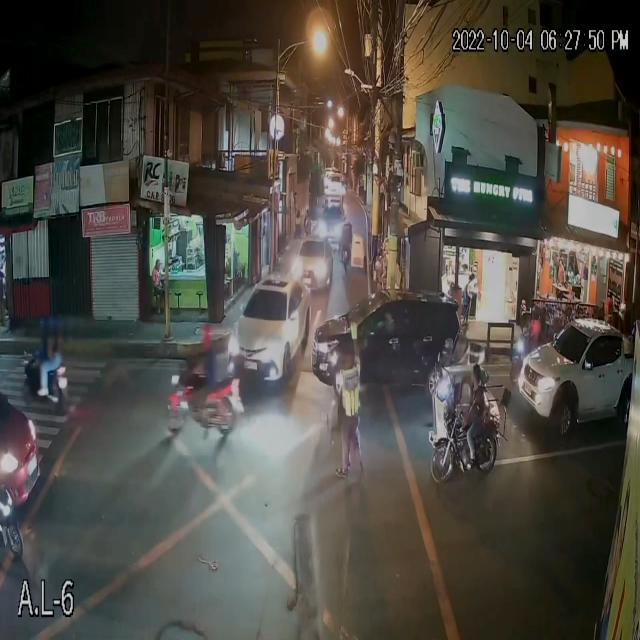Full-Faced: (194, 326, 217, 354), (33, 308, 48, 334), (49, 312, 62, 337)
